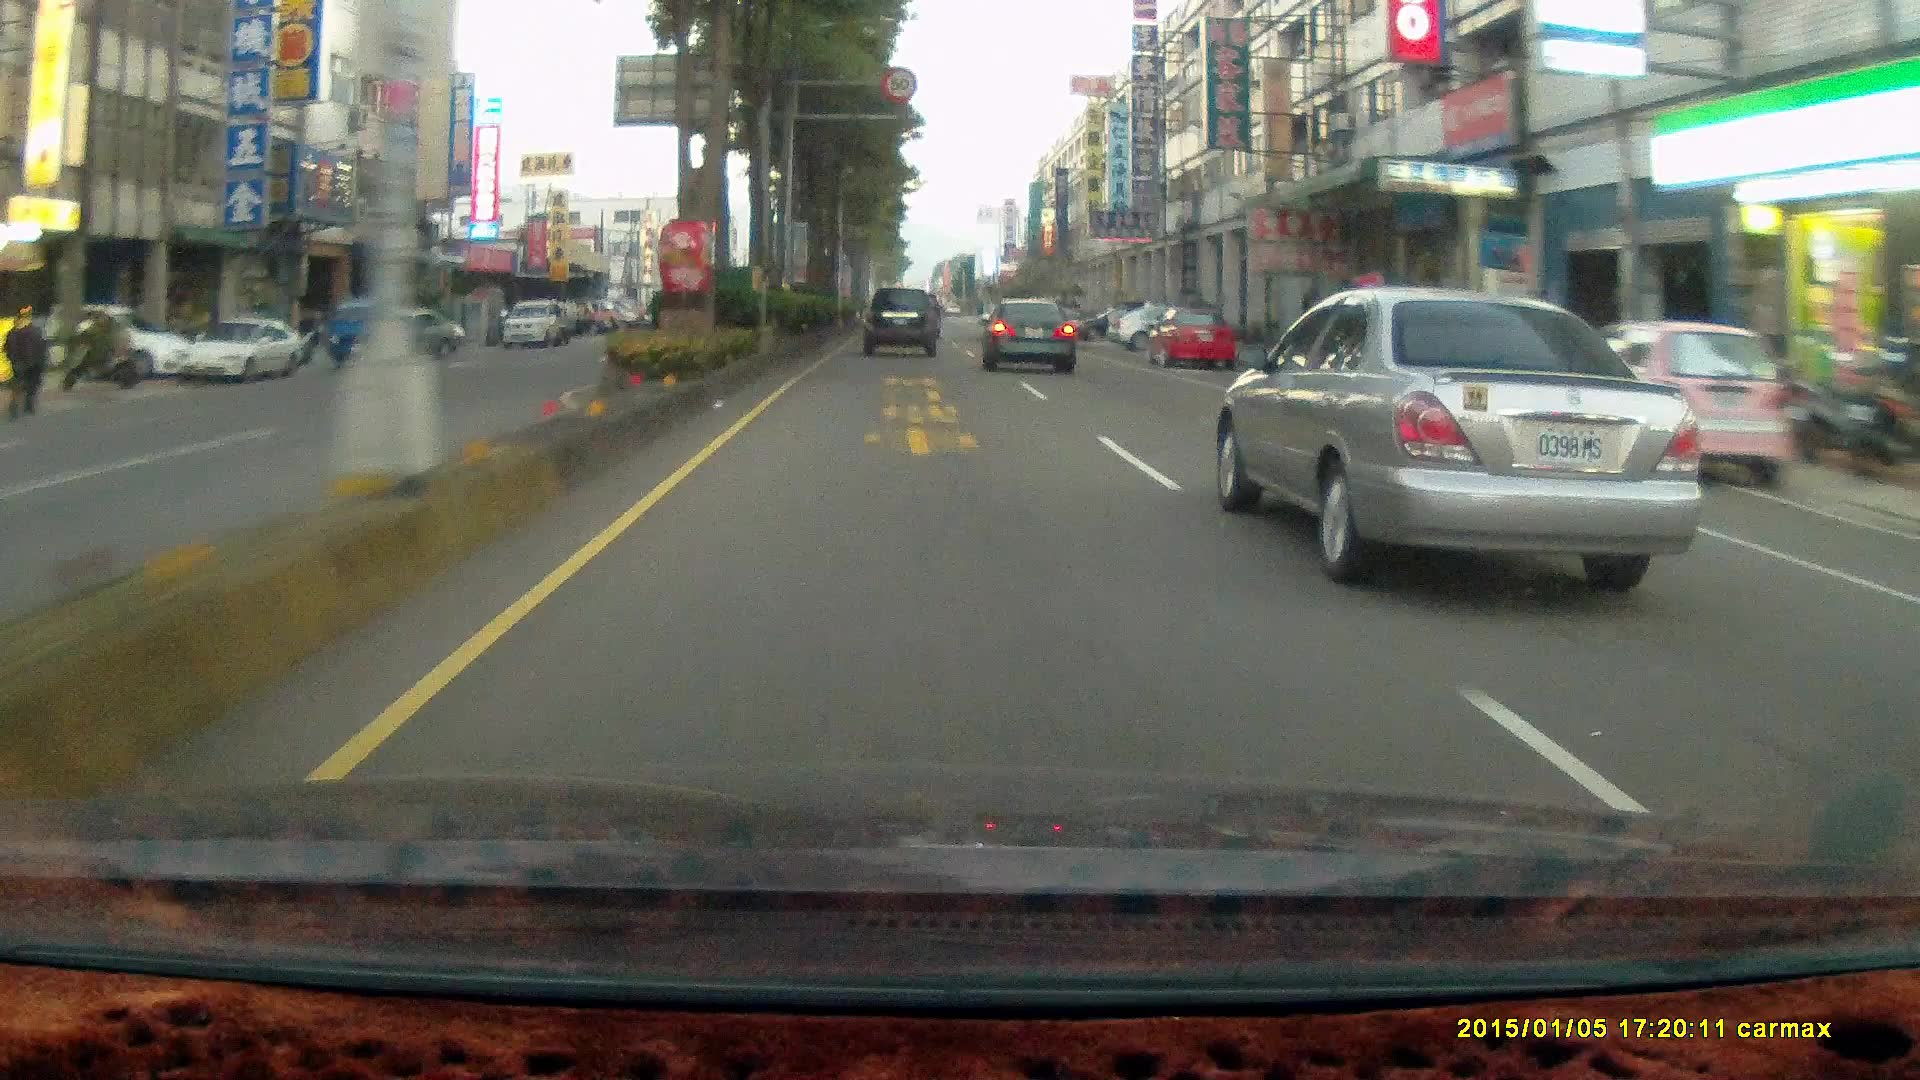pedestrian: (10, 310, 48, 419), (3, 308, 38, 413), (21, 311, 48, 410)
vehicle: (1227, 286, 1719, 575), (1564, 318, 1790, 493), (1563, 317, 1787, 485), (1344, 299, 1533, 398), (41, 301, 188, 377), (179, 315, 307, 387), (329, 294, 441, 371), (177, 318, 303, 382), (326, 292, 424, 369), (984, 300, 1080, 378), (978, 296, 1074, 373), (1142, 303, 1234, 369), (863, 286, 941, 360), (1150, 308, 1236, 376), (1105, 293, 1214, 343), (860, 283, 938, 353), (368, 305, 460, 356), (501, 299, 563, 348), (1072, 305, 1146, 340)
